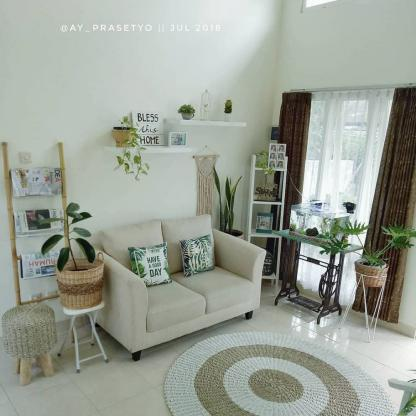bantal: (131, 245, 172, 283), (183, 238, 212, 271)
kursi: (4, 305, 60, 384)
sova: (92, 221, 267, 341)
tanaman: (327, 224, 414, 264), (40, 204, 92, 269), (117, 117, 150, 182), (213, 168, 243, 234)
